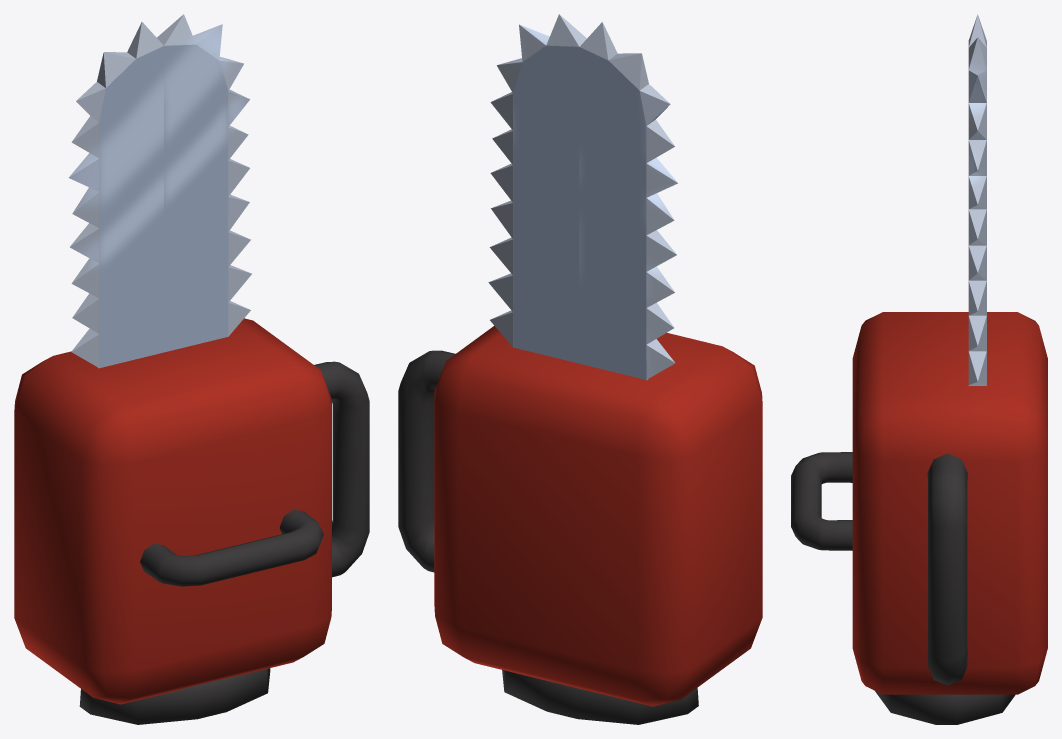
Rendered from saw.fbx.
The picture shows the model from 3 angles, left to right: view 1: azimuth 30°, elevation 25°; view 2: azimuth 150°, elevation 25°; view 3: azimuth 270°, elevation 25°; orthographic projection. The views are drawn at different scales.
Parts seen in each view (by area): view 1: chainsaw; view 2: chainsaw; view 3: chainsaw.
Boxes of the visible parts, x1,y1,x2,y2 form: chainsaw: (14,14,369,724); chainsaw: (398,14,762,724); chainsaw: (791,14,1047,724).
Bounding box in the file's own units: 0.5332 × 1.06 × 0.3737.
Materials: 1 (1 with a texture image).
